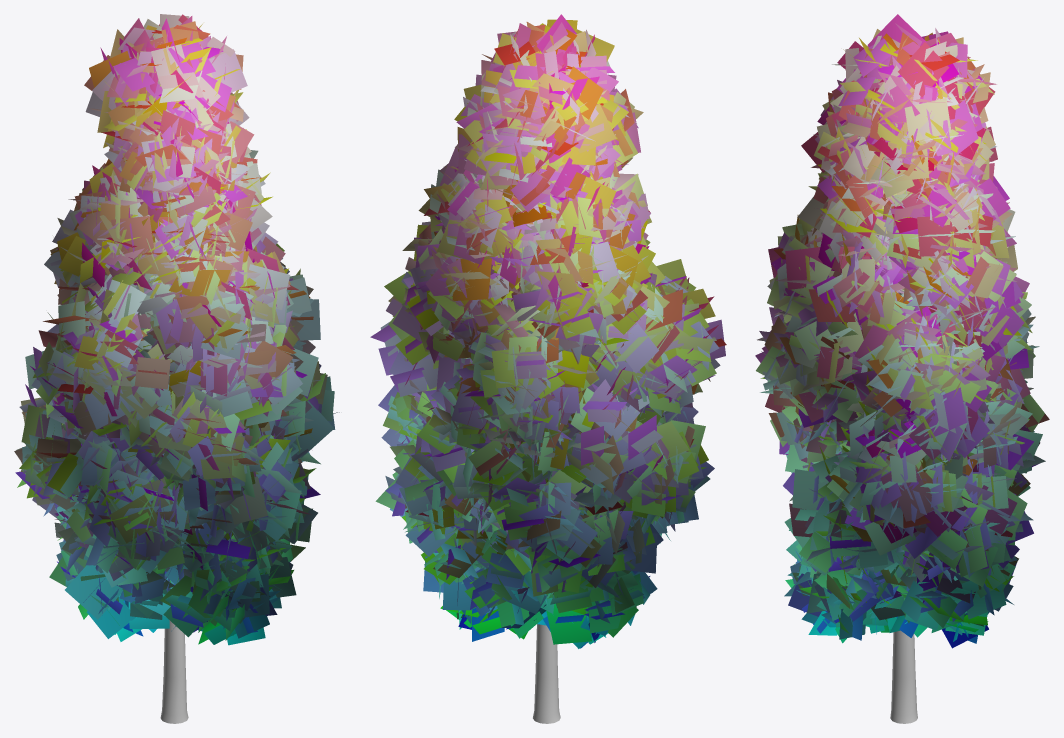
Rendered from tree_medium_birch_upright_canopy.glb.
3 views of the same model, side by side, from view 1: azimuth 30°, elevation 25°; view 2: azimuth 150°, elevation 25°; view 3: azimuth 270°, elevation 25° (orthographic).
Parts seen in each view (by area): view 1: Birch_Foliage_24Groups, Birch_Trunk_Stylized; view 2: Birch_Foliage_24Groups, Birch_Trunk_Stylized; view 3: Birch_Foliage_24Groups, Birch_Trunk_Stylized.
Part boxes in pixels (x1,y1,x2,y2): Birch_Foliage_24Groups: (14,14,339,645); Birch_Trunk_Stylized: (160,620,188,723); Birch_Foliage_24Groups: (370,14,726,648); Birch_Trunk_Stylized: (533,624,560,723); Birch_Foliage_24Groups: (755,14,1049,648); Birch_Trunk_Stylized: (890,290,917,723).
Size of the model in its own units: 5.83 by 12.75 by 4.88.
